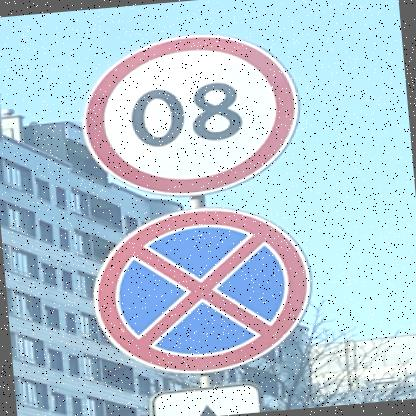speedlimit: (78, 24, 312, 205)
